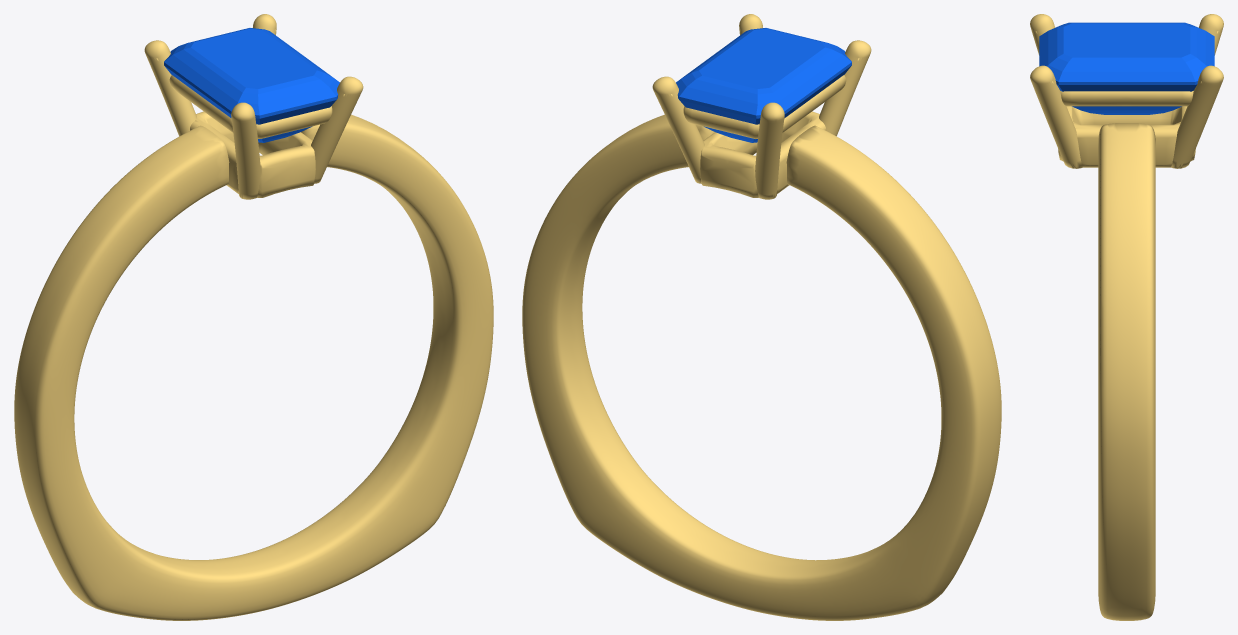
File: bluesapphire-emerald-yellowgold-4prong-europeanshank-solitaire.glb
The picture shows the model from 3 angles, left to right: view 1: azimuth 30°, elevation 25°; view 2: azimuth 150°, elevation 25°; view 3: azimuth 270°, elevation 25°; orthographic projection.
Visible parts, largest first — view 1: metal, stone; view 2: metal, stone; view 3: metal, stone.
Part boxes in pixels (x1,y1,x2,y2): metal: (14,14,493,620); stone: (164,28,339,142); metal: (522,14,1001,620); stone: (676,28,851,142); metal: (1030,14,1223,620); stone: (1039,22,1214,114).
Size of the model in its own units: 20.1 by 22.75 by 7.4.
